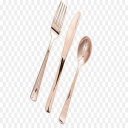fork: (22, 1, 70, 103)
